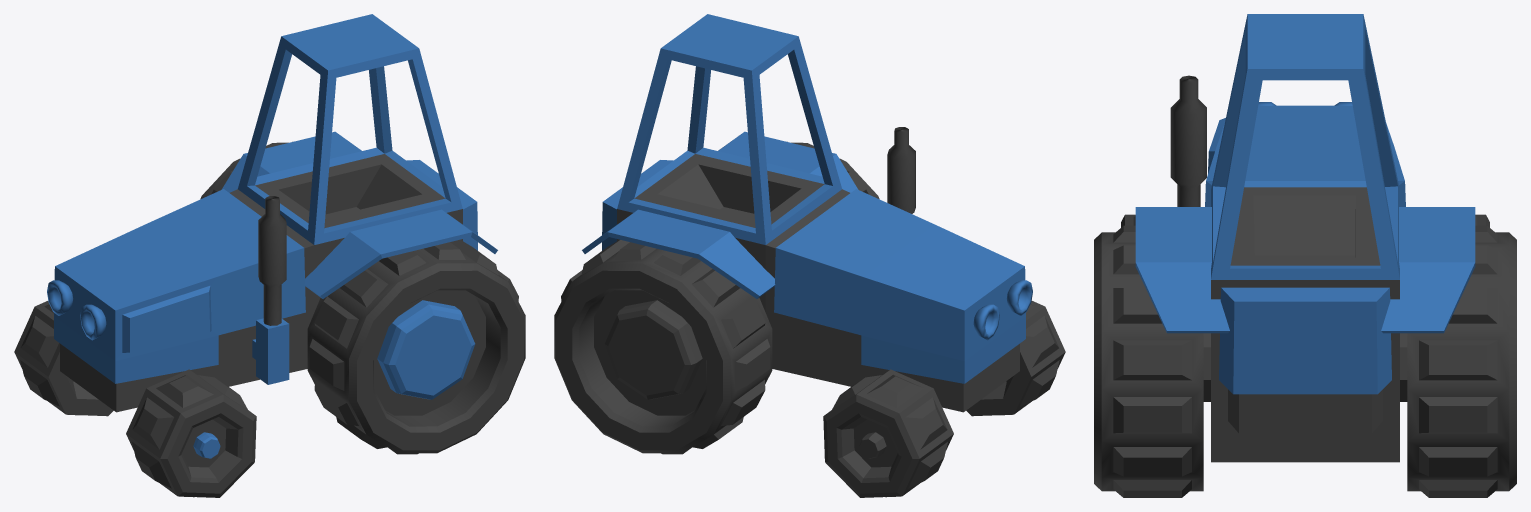
The model's file is tractor.fbx.
3 renders of one model, left to right at view 1: azimuth 30°, elevation 25°; view 2: azimuth 150°, elevation 25°; view 3: azimuth 270°, elevation 25°, orthographic. The views are drawn at different scales.
Parts seen in each view (by area): view 1: Body, Wheels, Pipe; view 2: Body, Wheels, Pipe; view 3: Body, Wheels, Pipe.
Boxes of the visible parts, box(x1,y1,x2,y2) form: Body: box(47, 14, 497, 412); Wheels: box(14, 141, 525, 497); Pipe: box(258, 196, 286, 325); Body: box(582, 14, 1032, 412); Wheels: box(554, 141, 1065, 497); Pipe: box(887, 127, 915, 213); Body: box(1135, 14, 1475, 462); Wheels: box(1094, 214, 1516, 497); Pipe: box(1170, 75, 1206, 206).
Size of the model in its own units: 318 by 287 by 249.
